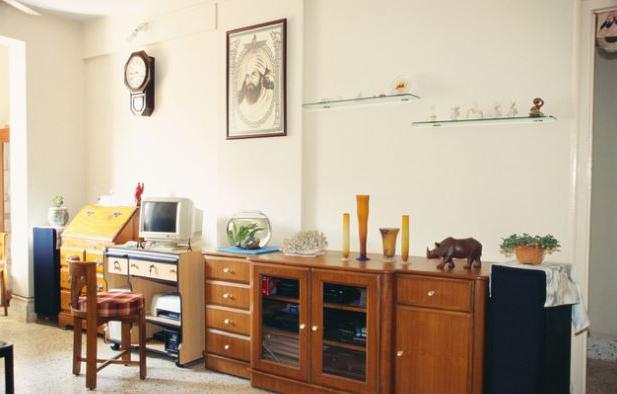chair: (58, 263, 147, 393)
clock: (114, 45, 166, 115)
table: (105, 243, 206, 362), (32, 221, 60, 319)
